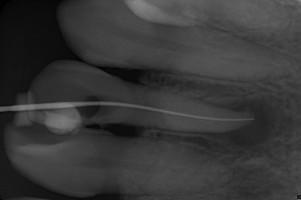Furcation Involvement: (226, 98, 274, 145)
